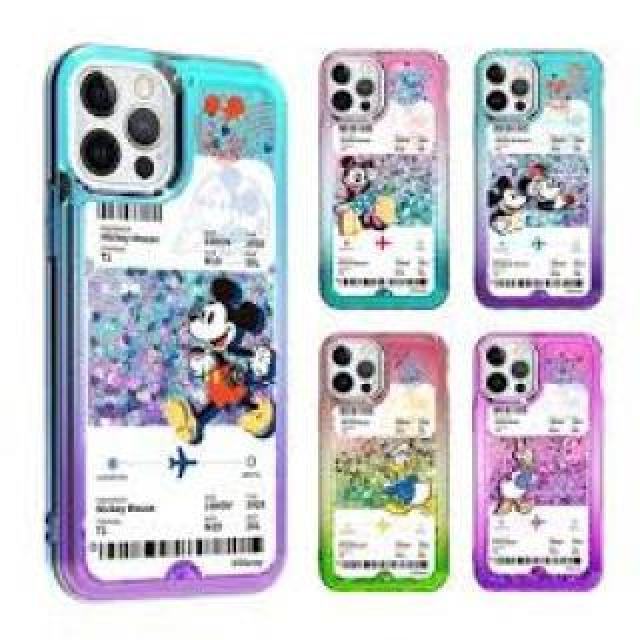smart phone: (37, 37, 310, 615), (452, 25, 616, 308), (305, 317, 450, 605), (306, 30, 456, 298), (468, 327, 607, 593)
